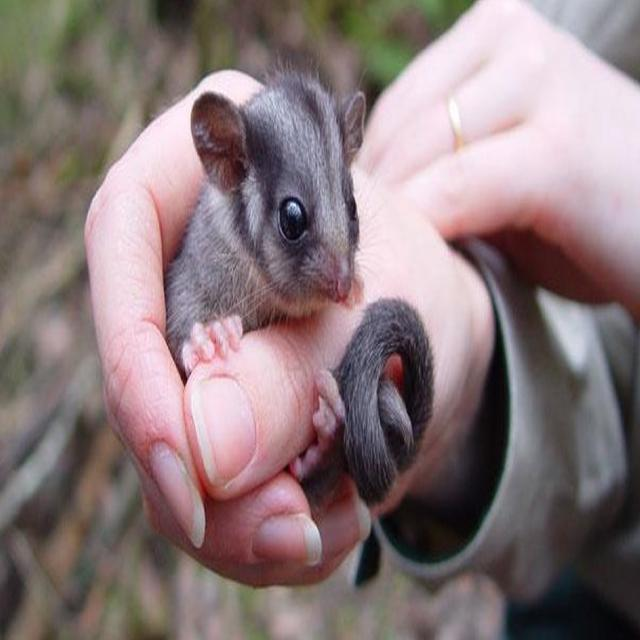Possum: (156, 65, 438, 522)
